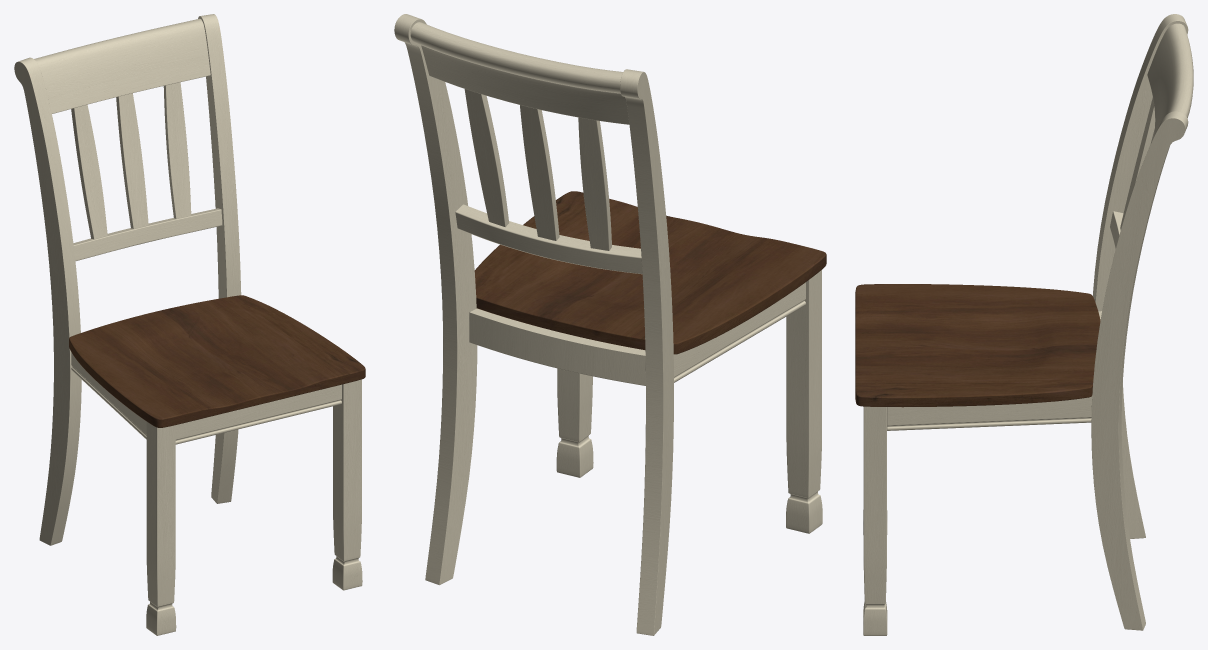
The picture shows the model from 3 angles, left to right: view 1: azimuth 30°, elevation 25°; view 2: azimuth 150°, elevation 25°; view 3: azimuth 270°, elevation 25°; orthographic projection. The views are drawn at different scales.
Visible parts, largest first — view 1: D583-02; view 2: D583-02; view 3: D583-02.
Part boxes in pixels (left/top/right/bottom): D583-02: left=14, top=14, right=365, bottom=635; D583-02: left=394, top=14, right=826, bottom=635; D583-02: left=855, top=14, right=1193, bottom=635.
Size of the model in its own units: 0.457 by 0.965 by 0.5748.
Materials: 1 (1 with a texture image).
